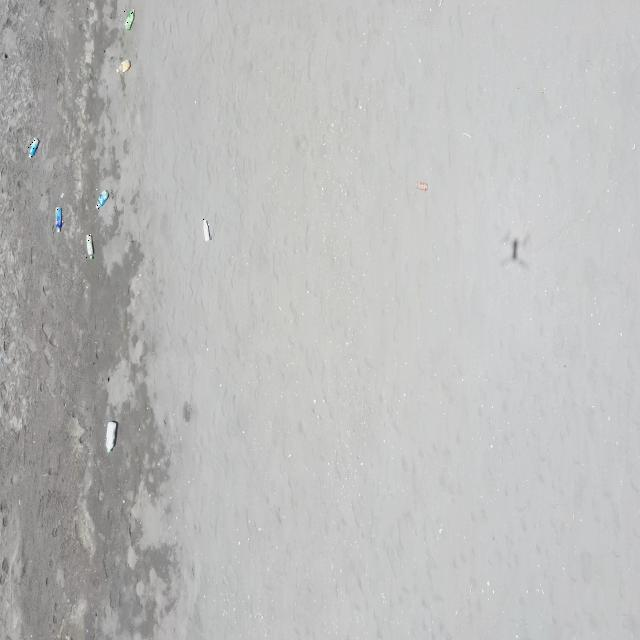plastic-bottle: (105, 420, 116, 454), (96, 187, 109, 209), (28, 135, 39, 158), (117, 58, 131, 76), (85, 234, 94, 261), (55, 205, 63, 234), (124, 8, 134, 30), (204, 218, 212, 243)
